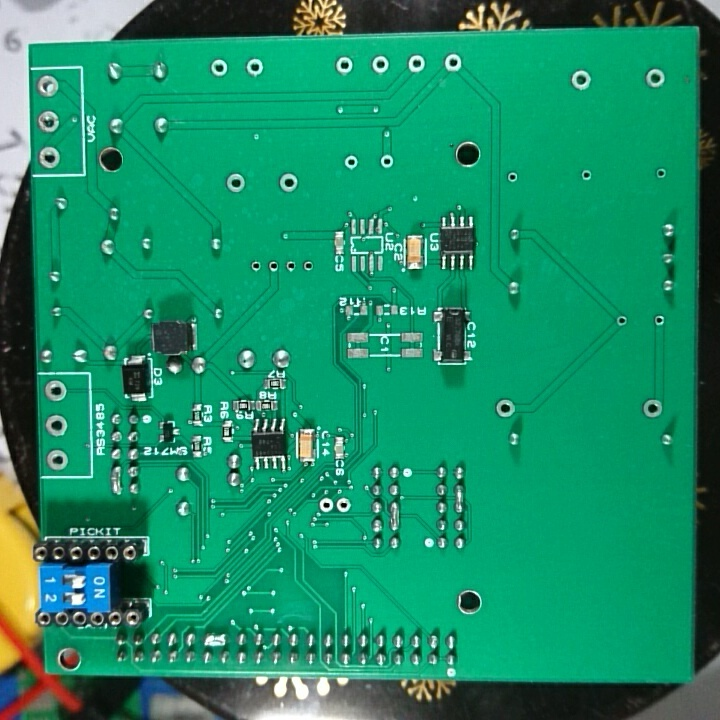F: (35, 73, 63, 100), (643, 64, 671, 90), (43, 412, 71, 438), (37, 146, 63, 173), (43, 378, 69, 404), (566, 69, 595, 92), (641, 397, 666, 423), (222, 170, 248, 195), (44, 448, 72, 471), (37, 109, 61, 134), (403, 52, 429, 74), (494, 395, 518, 418), (333, 55, 357, 78), (275, 172, 302, 192), (244, 55, 267, 78), (369, 53, 393, 75), (441, 53, 465, 74), (209, 57, 230, 79), (335, 495, 354, 515), (378, 152, 396, 172), (342, 152, 359, 171), (265, 259, 282, 278), (283, 258, 300, 277), (298, 256, 315, 275), (317, 497, 334, 515), (653, 164, 669, 183), (615, 312, 631, 330), (650, 312, 666, 330), (580, 166, 595, 183), (505, 168, 520, 185), (249, 259, 264, 275)
P: (108, 463, 125, 498), (386, 500, 403, 533), (201, 631, 230, 649), (452, 483, 468, 512)
